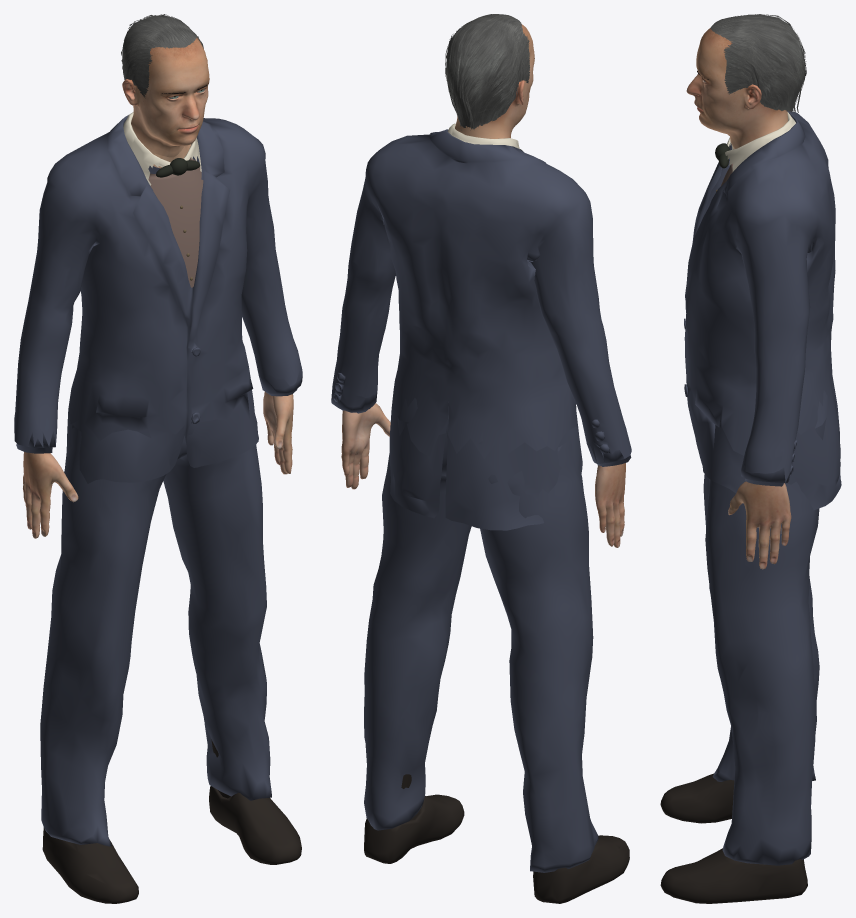
The model's file is household-away-characters.glb.
The picture shows the model from 3 angles, left to right: view 1: azimuth 30°, elevation 25°; view 2: azimuth 150°, elevation 25°; view 3: azimuth 270°, elevation 25°; orthographic projection.
Parts seen in each view (by area): view 1: away-householder_upper_Coat, away-householder_root_Coat, away-householder_root_Boot, away-householder_head_Skin, away-householder_upper_Skin, away-householder_upper_Waistcoat, away-householder_head_Hair, away-householder_upper_Shirt; view 2: away-householder_upper_Coat, away-householder_root_Coat, away-householder_head_Hair, away-householder_root_Boot, away-householder_upper_Skin, away-householder_head_Skin; view 3: away-householder_upper_Coat, away-householder_root_Coat, away-householder_root_Boot, away-householder_head_Hair, away-householder_head_Skin, away-householder_upper_Skin, away-householder_upper_Shirt.
Boxes of the visible parts, x1,y1,x2,y2 form: away-householder_upper_Coat: (14,115,302,447); away-householder_root_Coat: (16,370,302,846); away-householder_root_Boot: (42,739,301,903); away-householder_head_Skin: (122,37,209,157); away-householder_upper_Skin: (23,144,293,538); away-householder_upper_Waistcoat: (148,157,203,287); away-householder_head_Hair: (121,14,203,98); away-householder_upper_Shirt: (123,112,201,185); away-householder_upper_Coat: (331,129,631,462); away-householder_root_Coat: (331,389,631,872); away-householder_head_Hair: (445,14,529,130); away-householder_root_Boot: (364,774,629,903); away-householder_upper_Skin: (341,403,625,547); away-householder_head_Skin: (455,24,534,138); away-householder_upper_Coat: (684,111,838,482); away-householder_root_Coat: (688,389,841,865); away-householder_root_Boot: (660,773,807,903); away-householder_head_Hair: (710,14,806,112); away-householder_head_Skin: (686,27,787,148); away-householder_upper_Skin: (728,148,791,569); away-householder_upper_Shirt: (725,112,795,171).
Bounding box in the file's own units: 0.6265 × 1.75 × 0.3438.
Materials: 10 (4 with a texture image).
